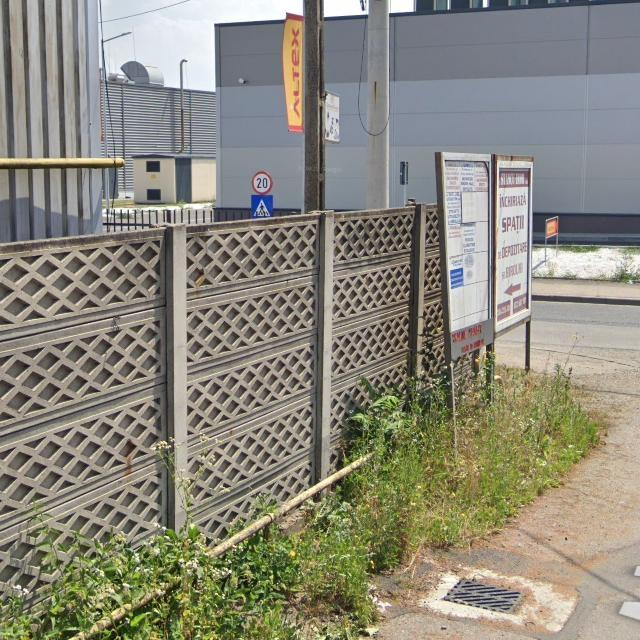forb_speed_over_20: (252, 171, 273, 195)
info_crosswalk: (251, 195, 273, 219)
